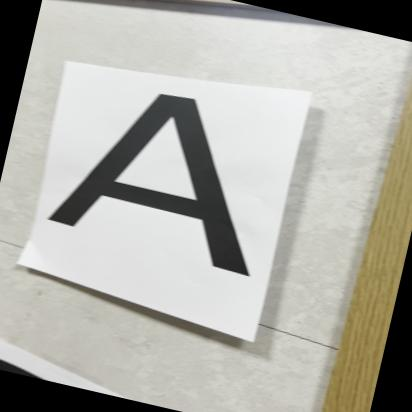seat: (30, 66, 300, 310)
